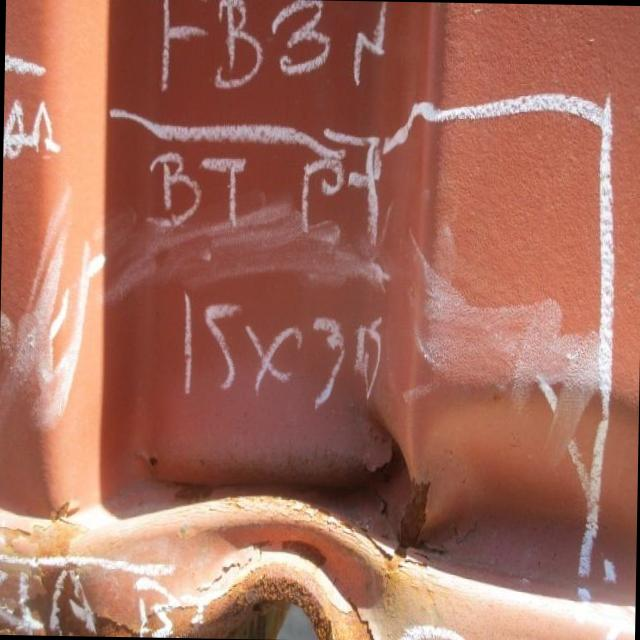Major Dent: (37, 363, 634, 572)
